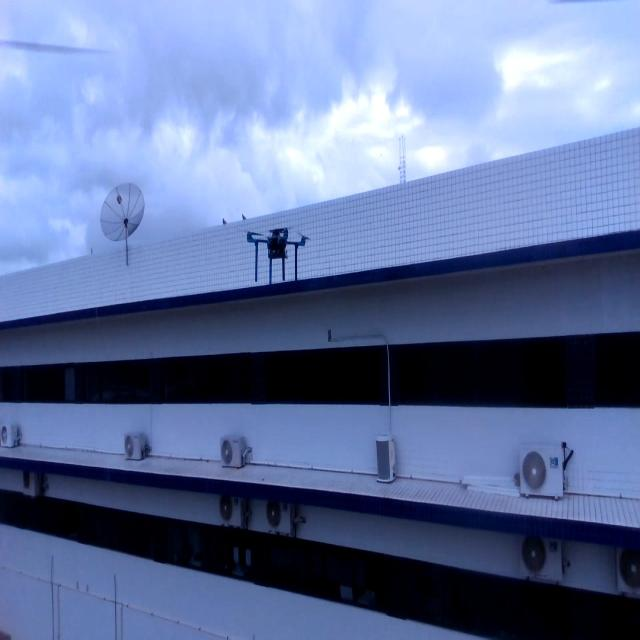-uav-: (234, 197, 320, 307)
